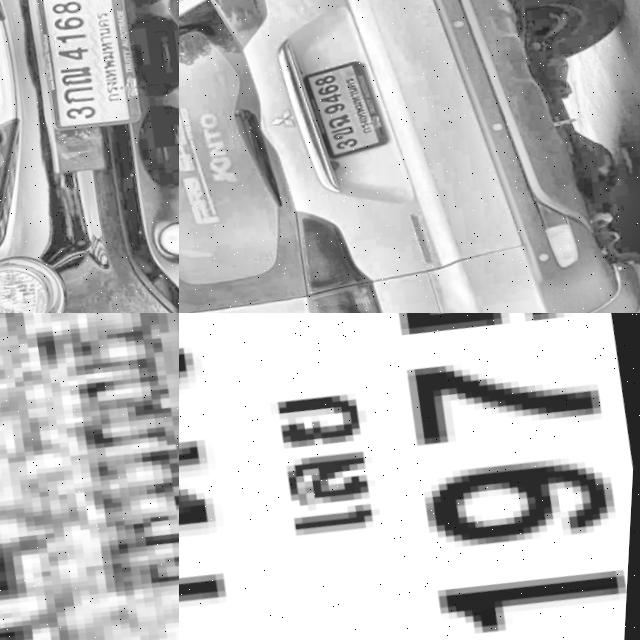license-plate: (179, 313, 640, 640), (0, 313, 179, 640), (26, 0, 157, 134), (294, 45, 400, 162)
